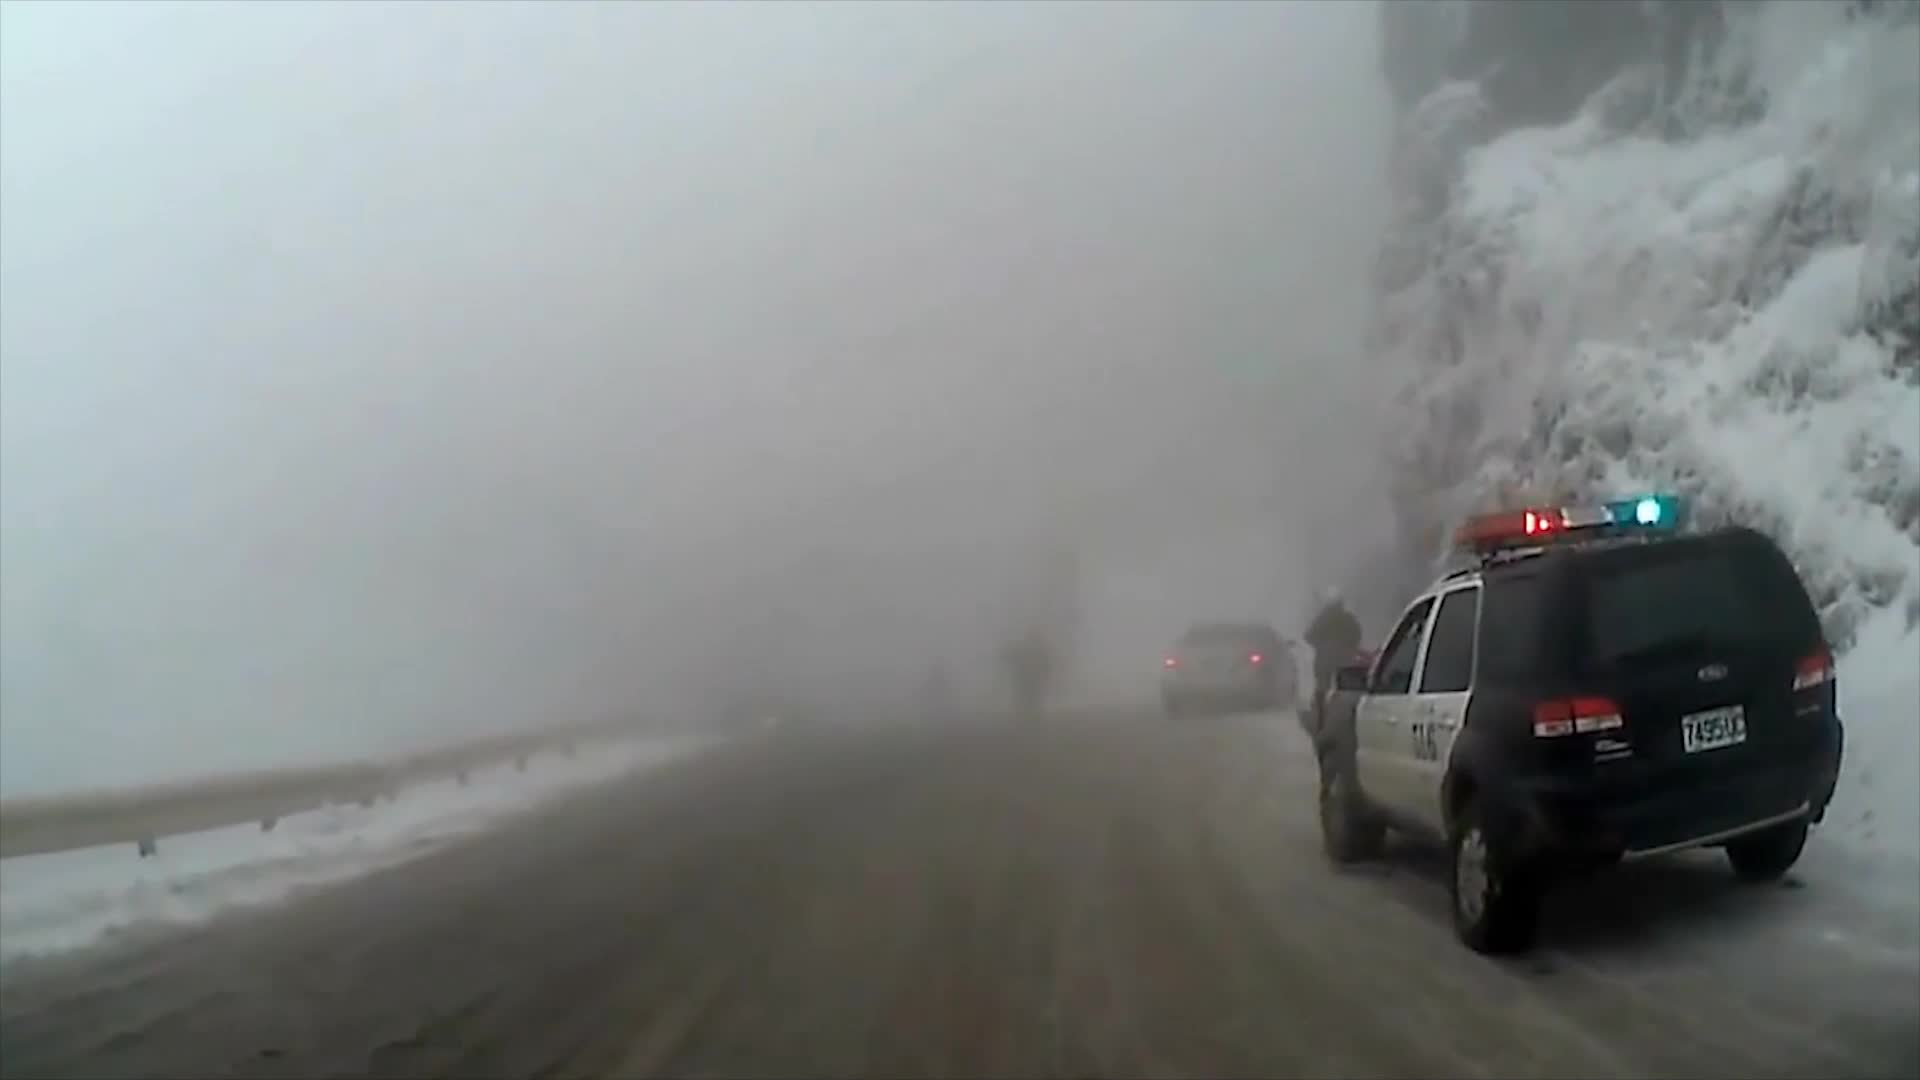pedestrian: (1302, 589, 1370, 750)
vehicle: (1311, 493, 1849, 955), (1158, 618, 1297, 718)
